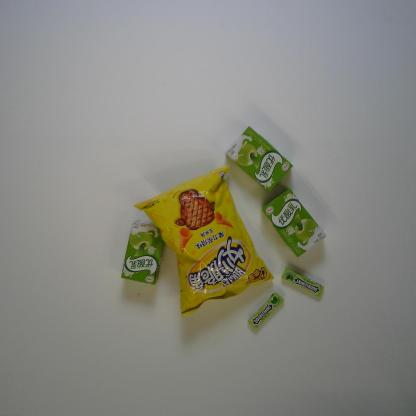Gum: (247, 292, 285, 329), (281, 267, 324, 298)
Milk: (225, 125, 293, 193), (261, 188, 327, 258), (119, 220, 168, 286)
Puffed Food: (134, 165, 276, 318)
